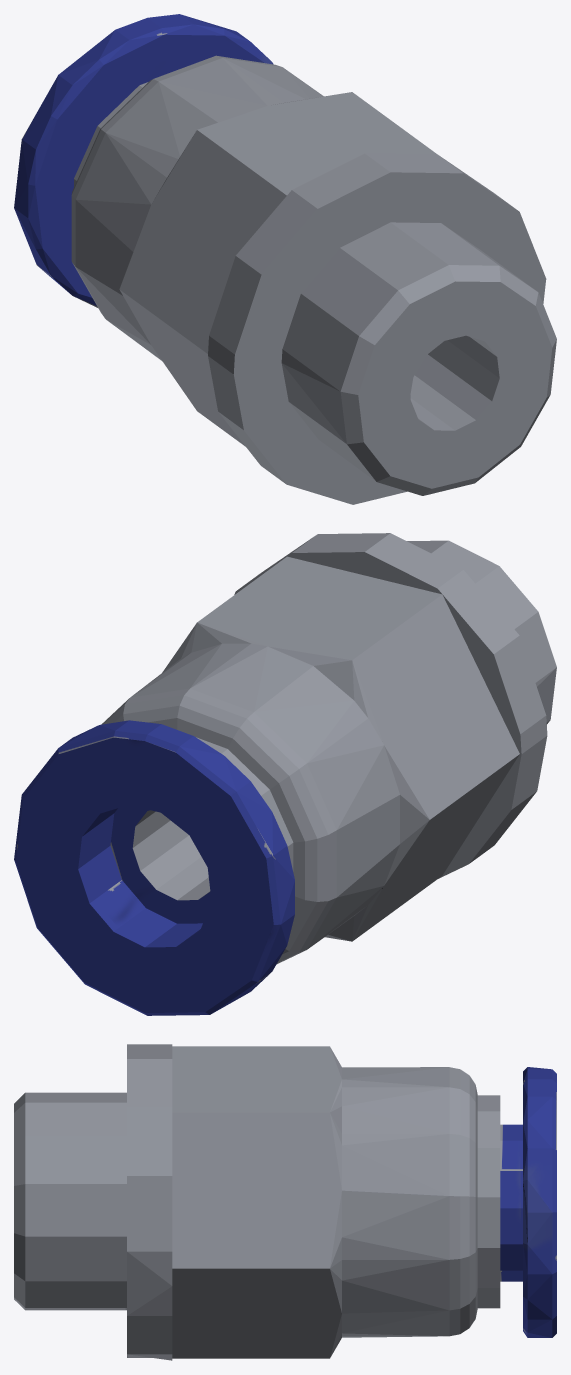
File: push-in-fitting.gltf
3 views of the same model, one above another, from view 1: azimuth 30°, elevation 25°; view 2: azimuth 150°, elevation 25°; view 3: azimuth 270°, elevation 25° (orthographic). The views are drawn at different scales.
Parts seen in each view (by area): view 1: Push-in-fitting; view 2: Push-in-fitting; view 3: Push-in-fitting.
Part boxes in pixels (x1,y1,x2,y2): Push-in-fitting: (14,14,556,504); Push-in-fitting: (14,533,556,1015); Push-in-fitting: (14,1044,556,1360).
Bounding box in the file's own units: 54.92 × 54.32 × 94.49.
1 material, 1 textured.
